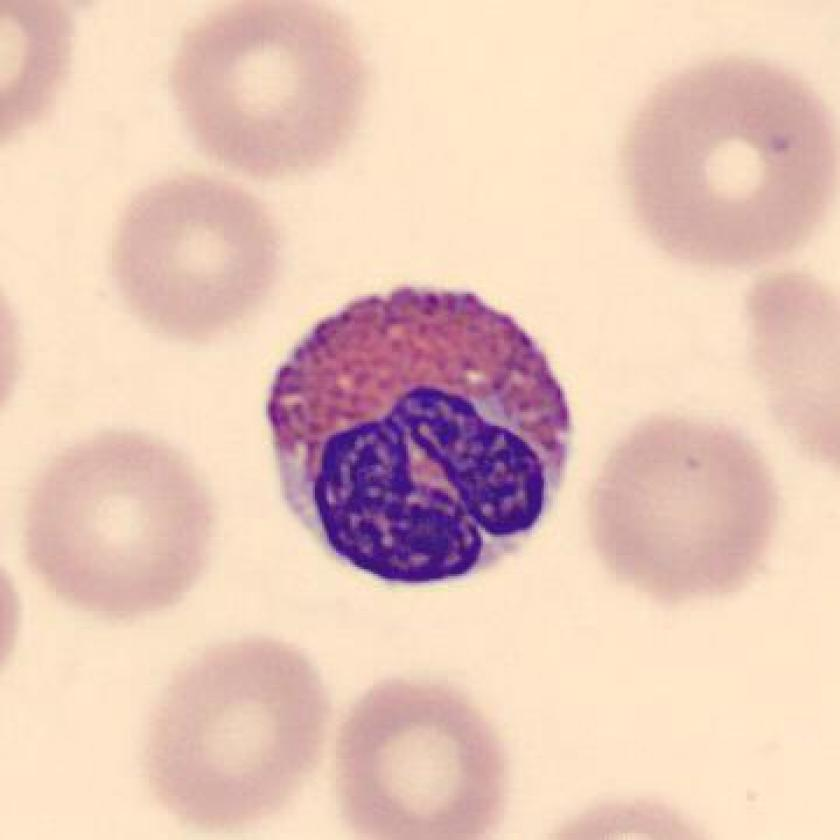eosinophil: (253, 274, 589, 603)
